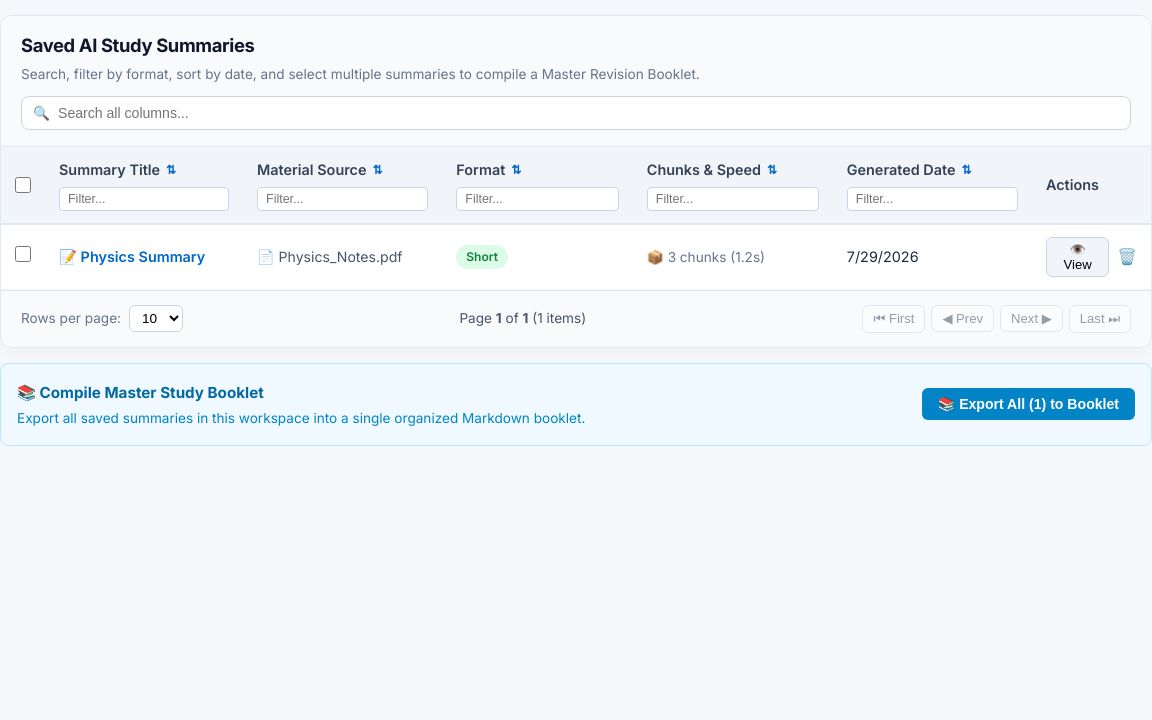
Test: SummaryLibraryTable Component › opens summary booklet modal when title is clicked
This screenshot has width=1152, height=720.
What coordinates should you click on to do the following:
click the text "📝 Physics Summary"
I would click on:
 (144, 257)
Its box is x1=59 y1=246 x2=229 y2=267.
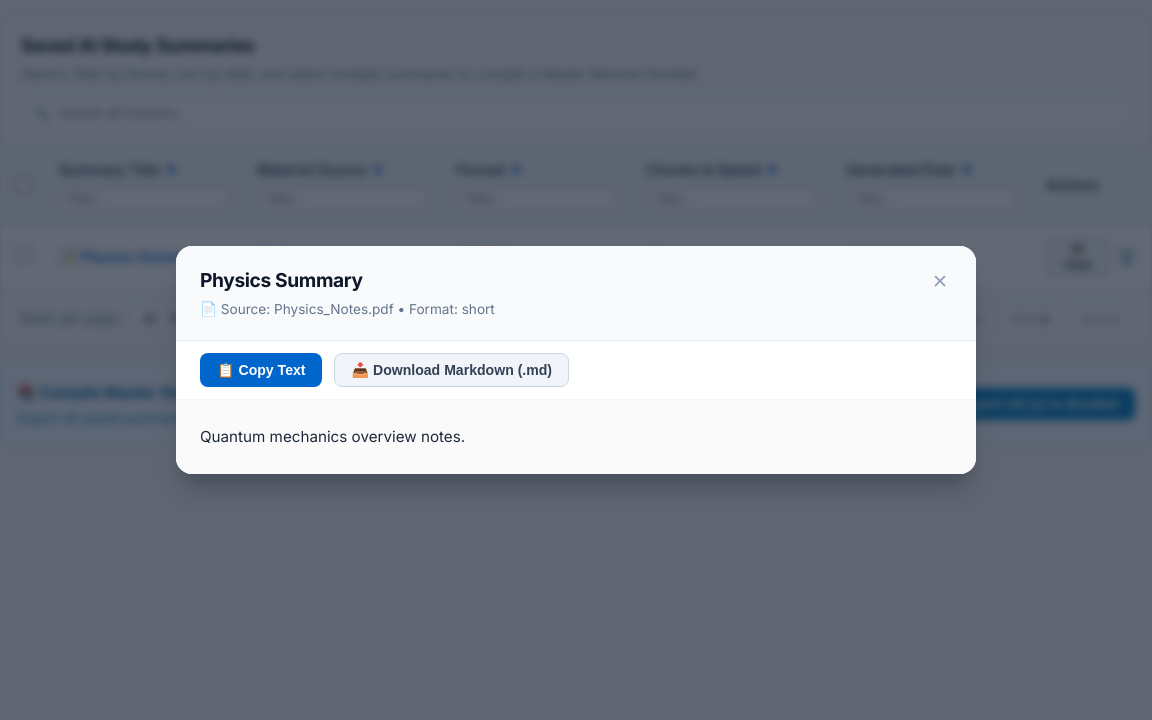
Now the heading "Physics Summary" is shown, box x1=200 y1=268 x2=363 y2=292
Now the text "Quantum mechanics overview notes." is shown, box x1=200 y1=427 x2=465 y2=446
